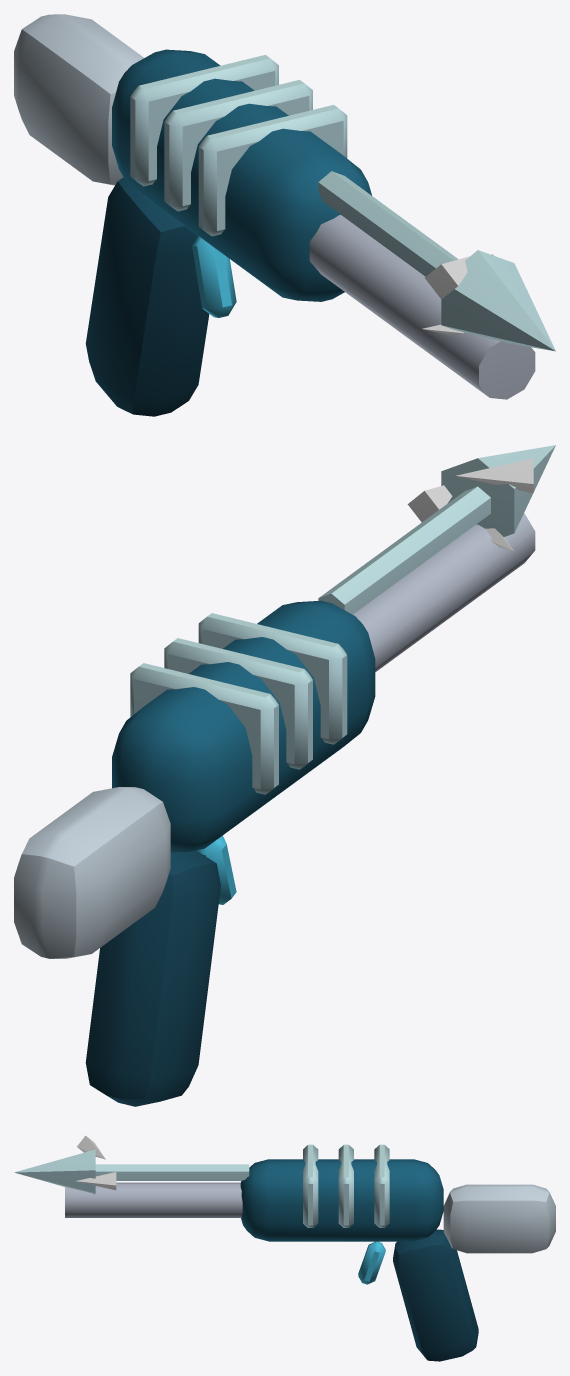
Rendered from w_n_ice.glb.
3 views of the same model, one above another, from view 1: azimuth 30°, elevation 25°; view 2: azimuth 150°, elevation 25°; view 3: azimuth 270°, elevation 25° (orthographic). The views are drawn at different scales.
Parts seen in each view (by area): view 1: body; view 2: body; view 3: body.
Boxes of the visible parts, x1=… form: body: x1=14, y1=14, x2=555, y2=416; body: x1=14, y1=445, x2=555, y2=1106; body: x1=14, y1=1135, x2=555, y2=1361.
Bounding box in the file's own units: 0.17 × 0.4561 × 1.06.
